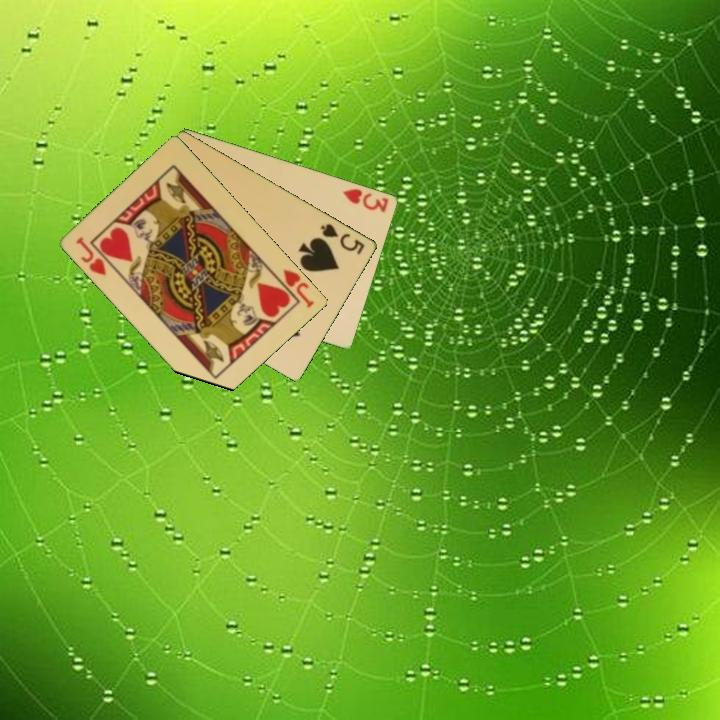3h: (339, 185, 392, 215)
5s: (317, 220, 368, 258)
Jh: (270, 265, 317, 311), (73, 233, 110, 278)
